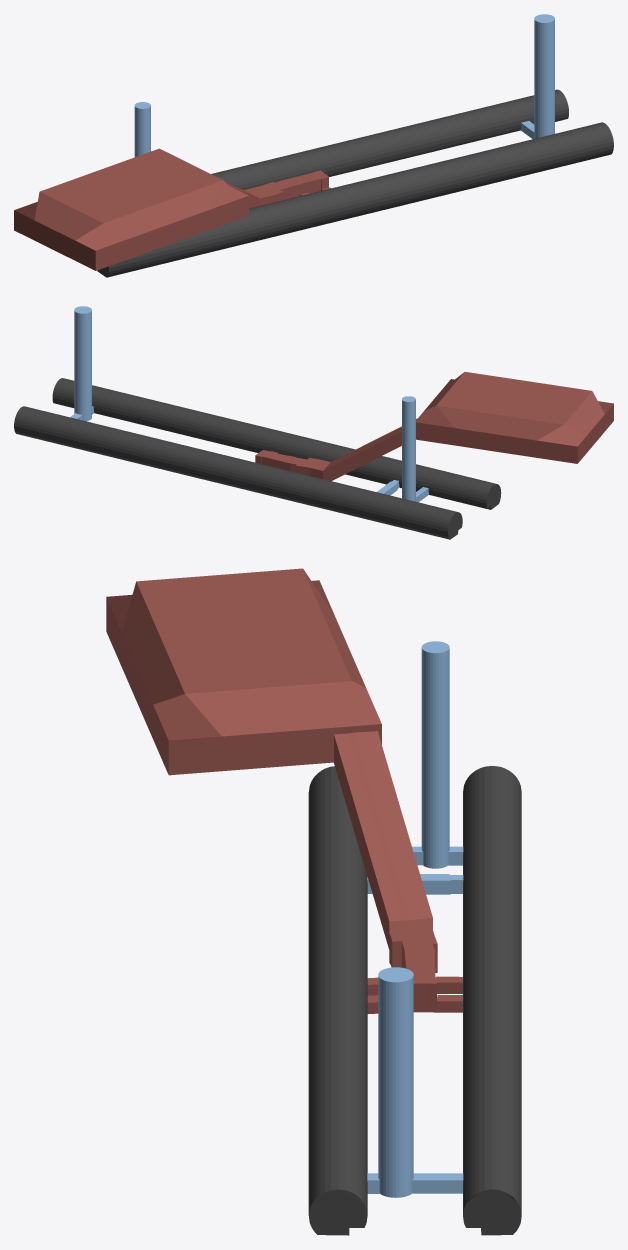
3 views of the same model, one above another, from view 1: azimuth 30°, elevation 25°; view 2: azimuth 150°, elevation 25°; view 3: azimuth 270°, elevation 25° (orthographic). The views are drawn at different scales.
Visible parts, largest first — view 1: TicketHall, PLT1, PLT2, 14, Concourse, 22; view 2: PLT2, TicketHall, PLT1, 14, 22, ESC, Concourse; view 3: TicketHall, PLT2, PLT1, ESC, 14, 22, Concourse, 42.
Part boxes in pixels (box(x1,y1,x2,y2)): TicketHall: box(14, 148, 248, 270); PLT1: box(97, 122, 613, 277); PLT2: box(211, 89, 568, 189); 14: box(520, 14, 554, 138); Concourse: box(244, 170, 328, 205); 22: box(134, 102, 150, 156); PLT2: box(14, 406, 462, 539); TicketHall: box(416, 372, 613, 463); PLT1: box(52, 378, 501, 509); 14: box(70, 306, 94, 421); 22: box(402, 396, 428, 502); ESC: box(323, 418, 417, 480); Concourse: box(255, 450, 330, 478); TicketHall: box(106, 568, 381, 775); PLT2: box(463, 766, 521, 1235); PLT1: box(308, 766, 367, 1235); ESC: box(334, 731, 432, 949); 14: box(367, 967, 463, 1197); 22: box(412, 641, 463, 868); Concourse: box(389, 918, 437, 1012); 42: box(367, 874, 463, 894).
Size of the model in its own units: 186 by 38.67 by 65.05.
